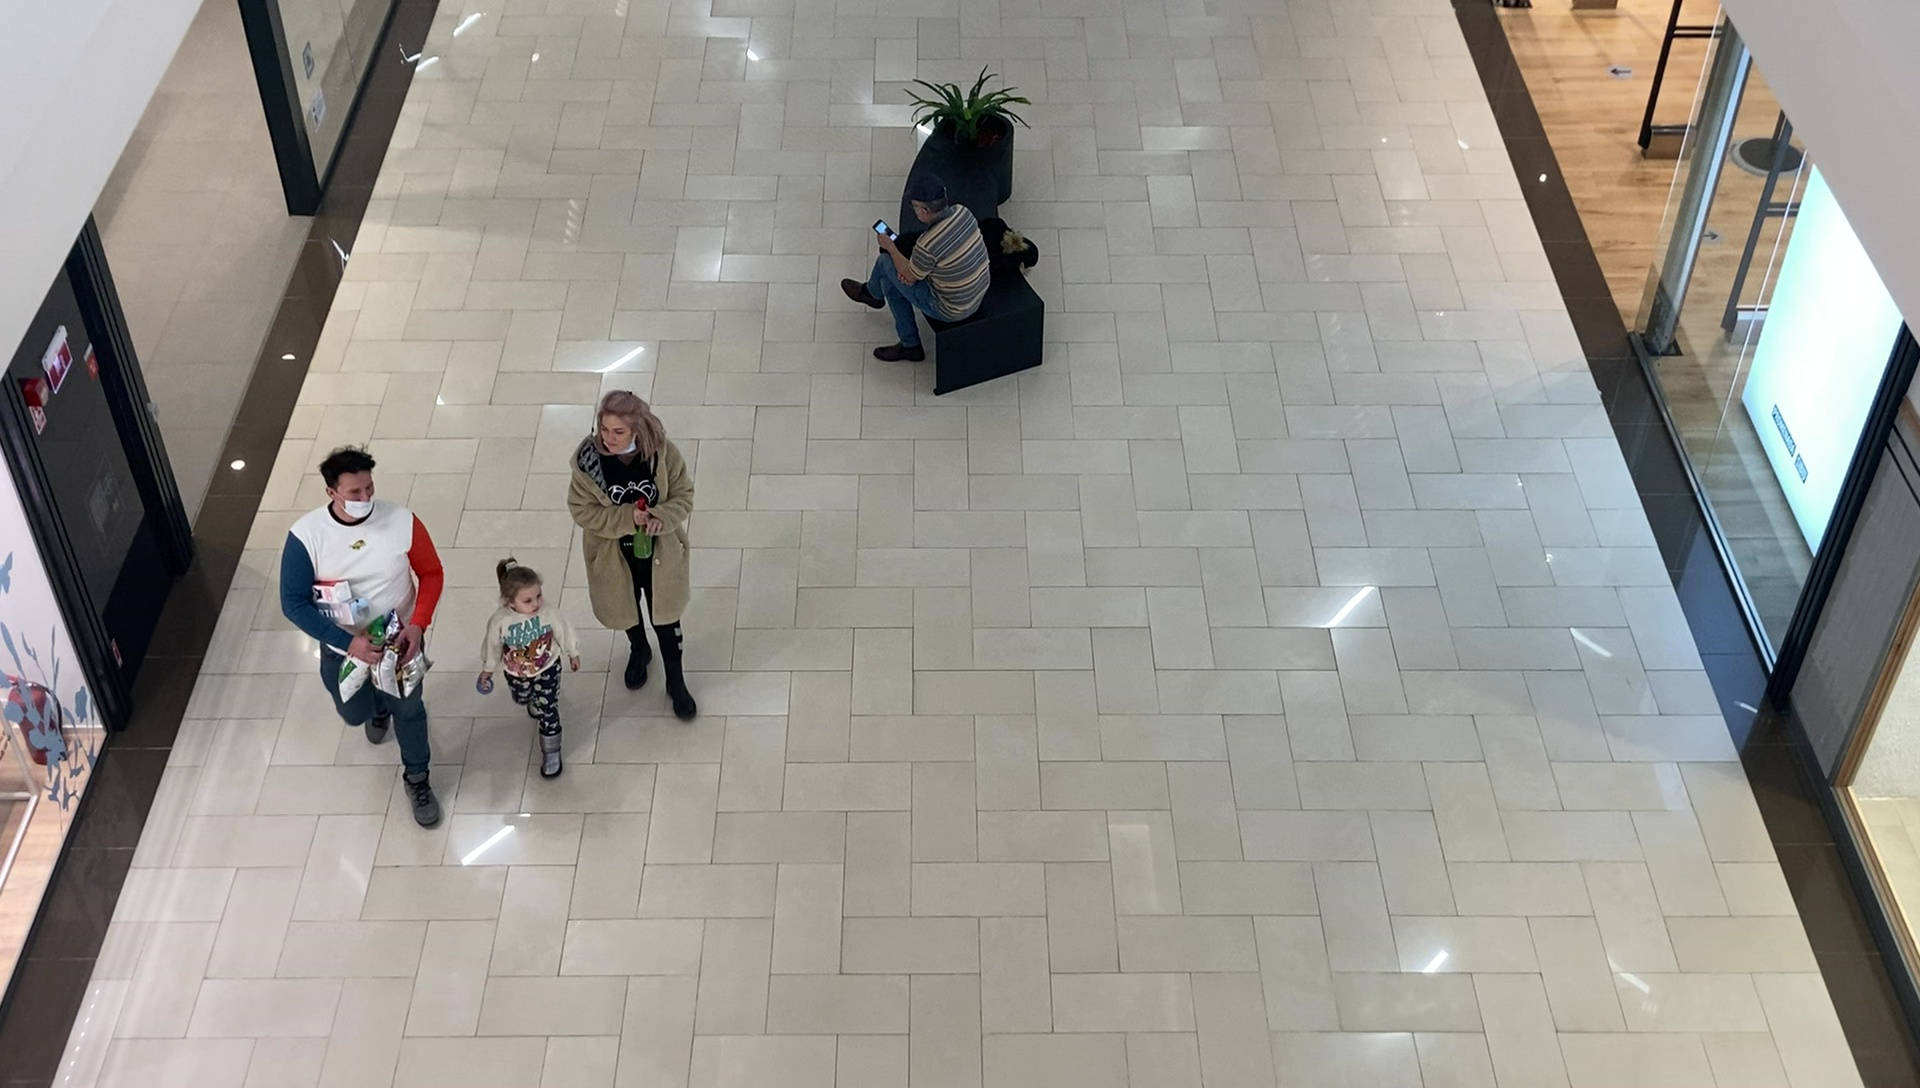person: (279, 447, 445, 836), (569, 390, 710, 724), (477, 559, 581, 779)
